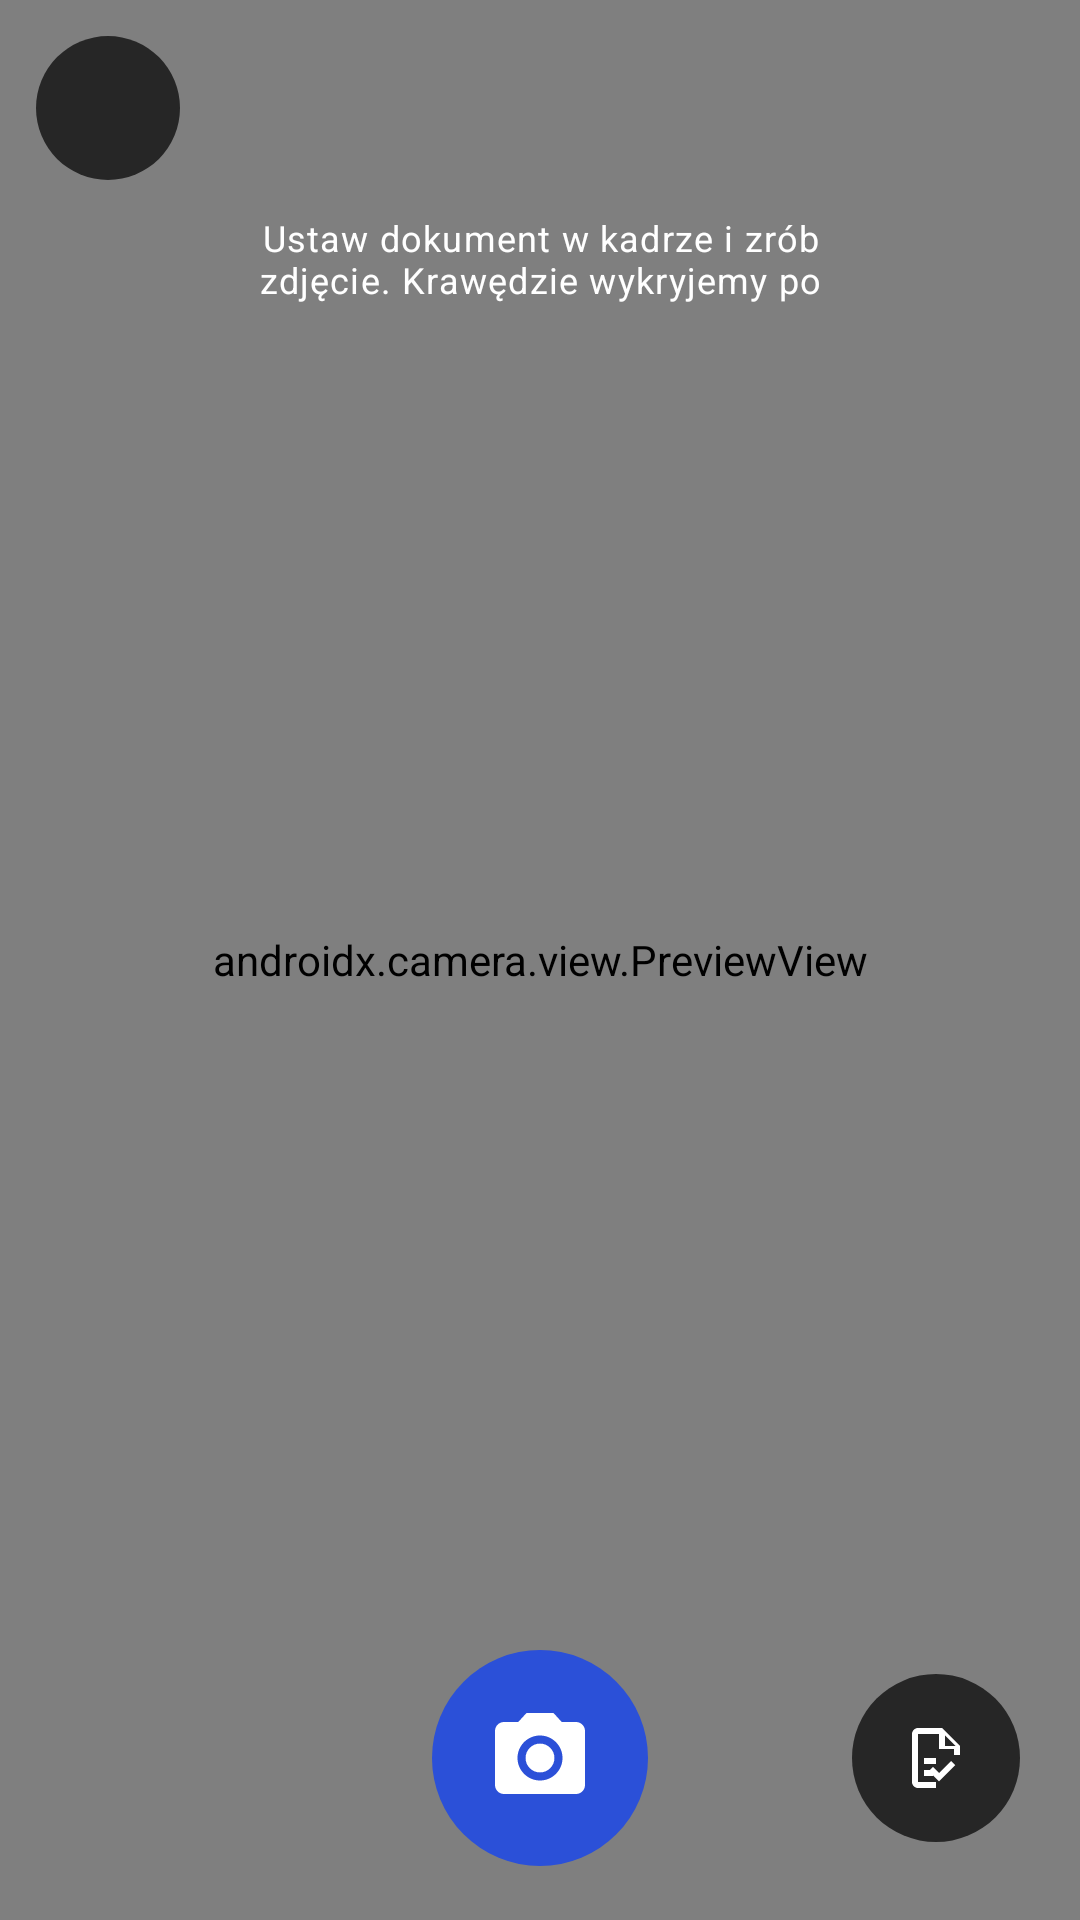

Icon bounding boxes for this 1080w x 1920h phone screenshot, format (x1, y1, x2, y2):
Skanuj stronę: (432, 1650, 648, 1866)
Zakończ dokument: (852, 1674, 1020, 1842)
